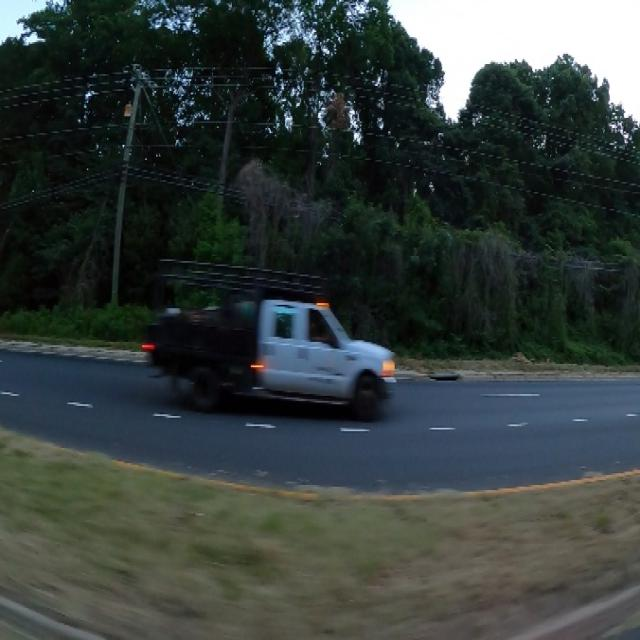cars: (147, 257, 406, 426)
